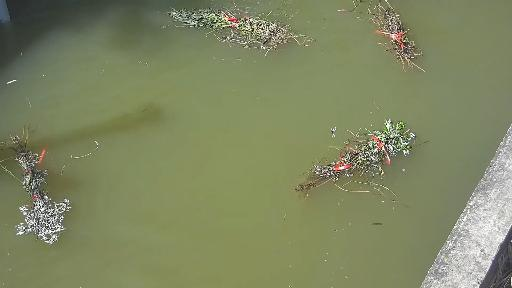twig: (298, 113, 418, 205), (4, 131, 88, 242), (161, 0, 309, 59), (351, 0, 430, 77)
